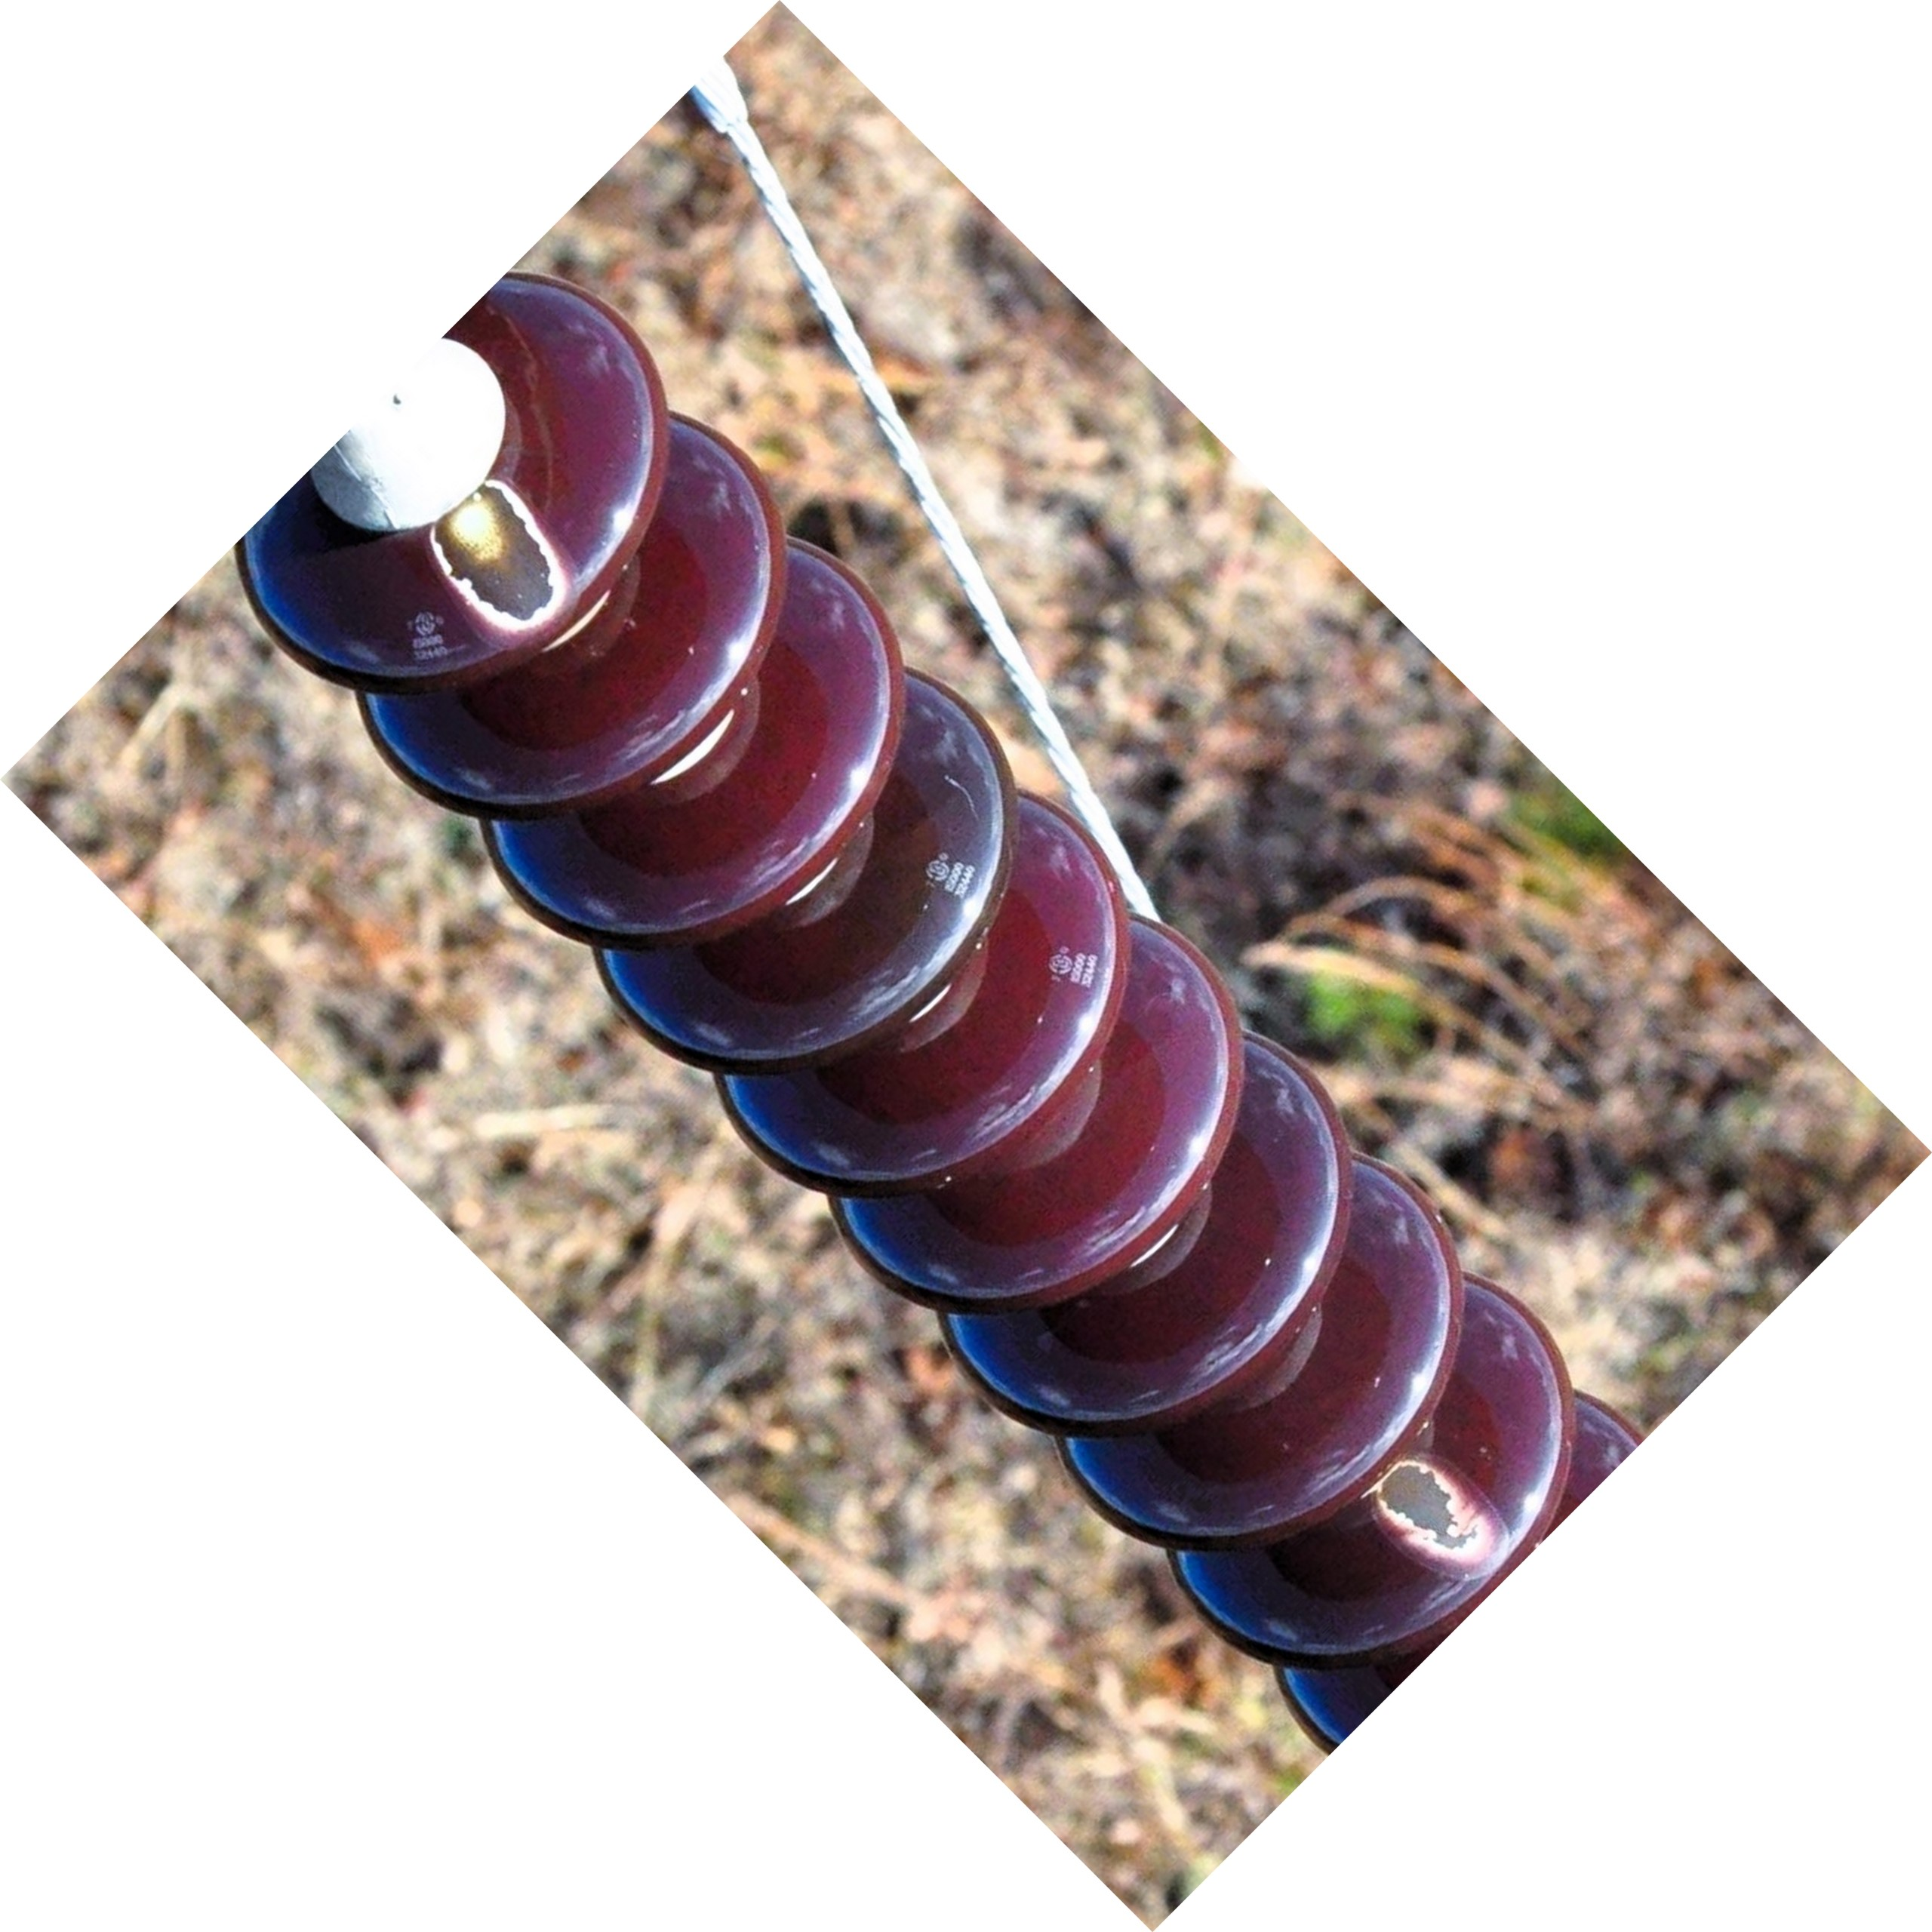Insulator flashover: (221, 242, 692, 697), (1155, 1253, 1587, 1665)
